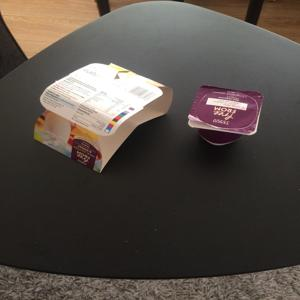cardboard: (38, 53, 174, 180)
plastic: (191, 78, 270, 154)
